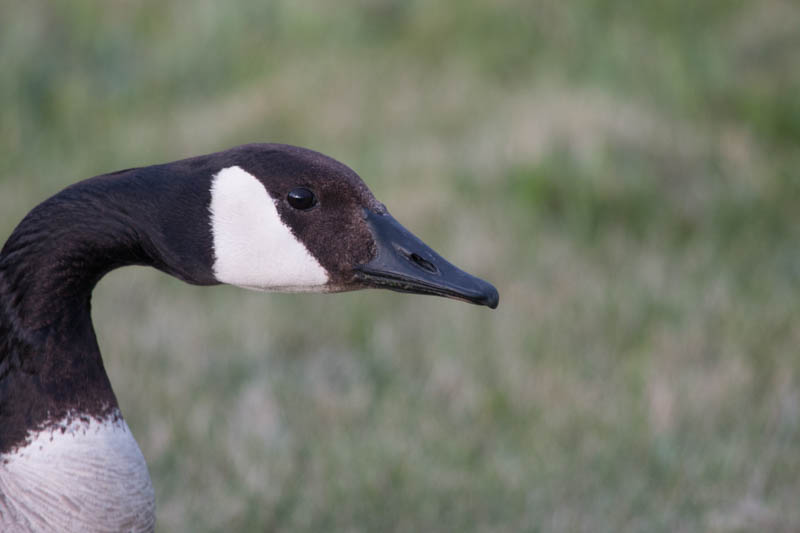goose-head: (162, 144, 500, 312)
